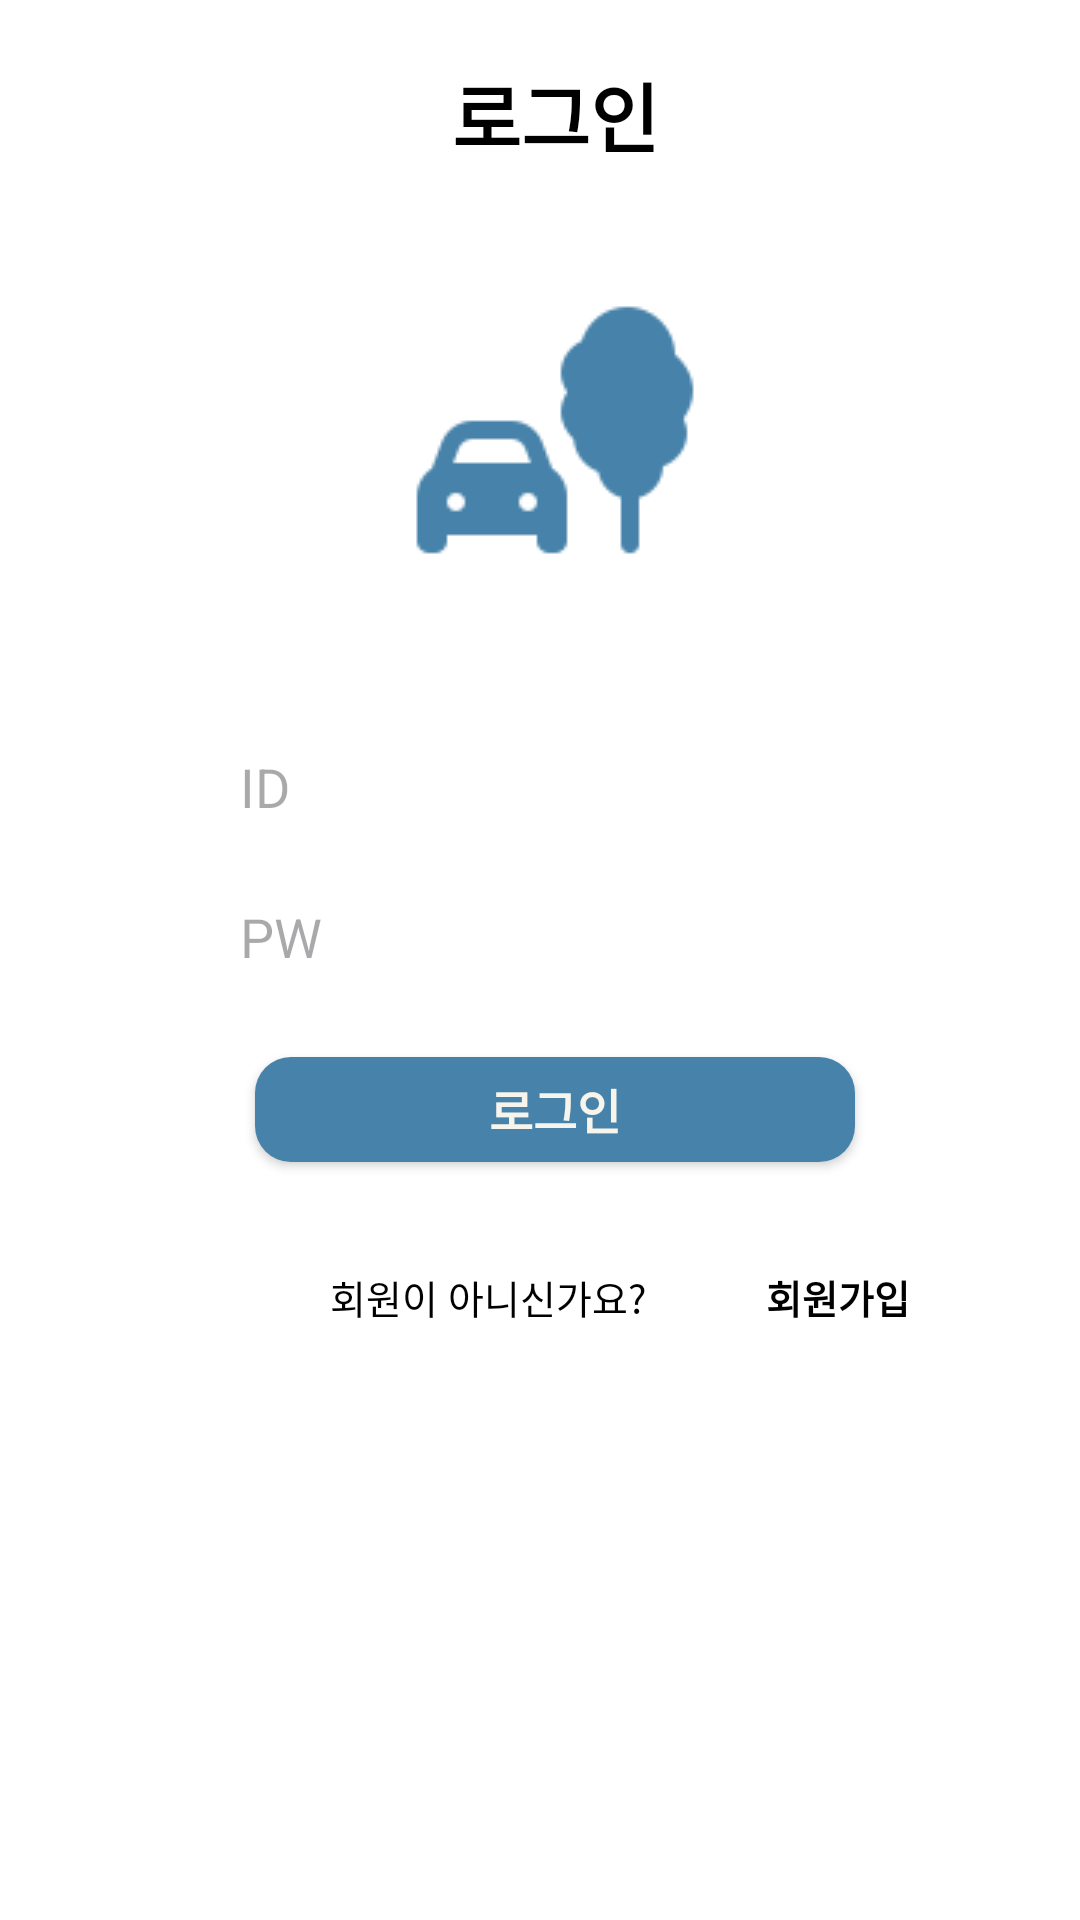

Point at icon controls on the screen. Image size 1080w x 1920h, points as (x,y).
carparking: (555,430)
